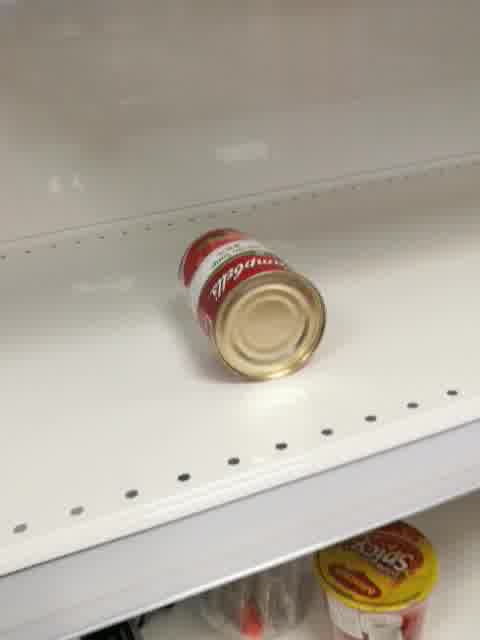tomatosoup: (176, 227, 327, 385)
